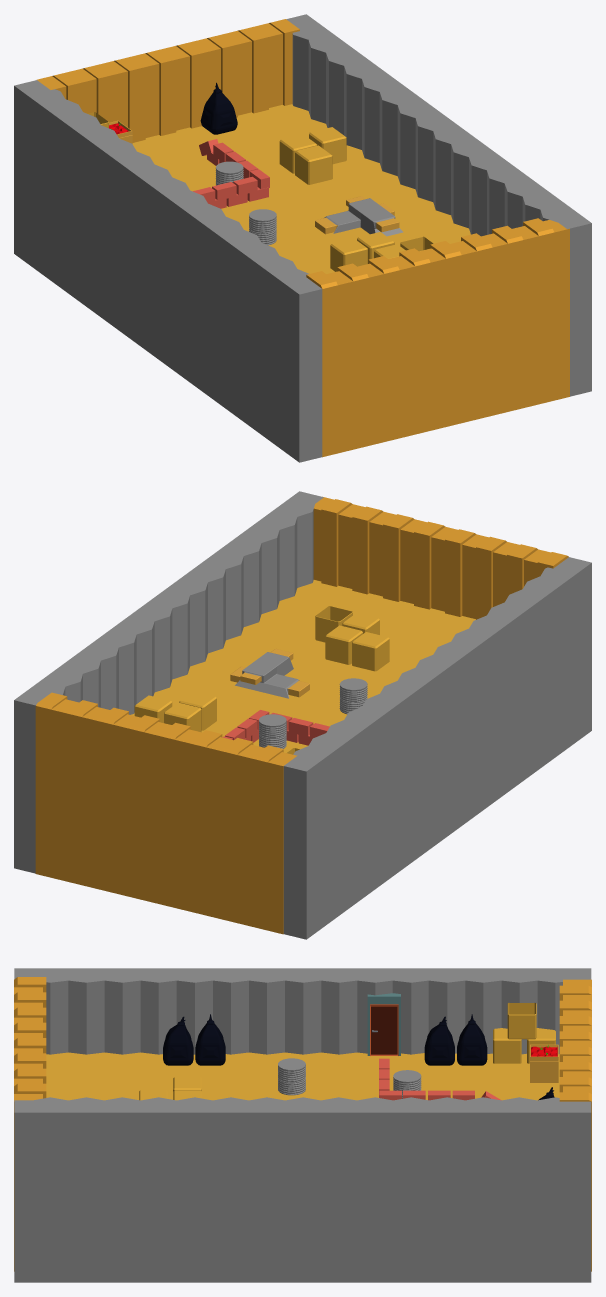
File: Lev2.fbx
The picture shows the model from 3 angles, top to bottom: view 1: azimuth 30°, elevation 25°; view 2: azimuth 150°, elevation 25°; view 3: azimuth 270°, elevation 25°; orthographic projection.
Parts seen in each view (by area): view 1: Cube.007, Cube.009, Cube.008, Cube.006, Cube.010, Cube.027, Box1.011, Cube.029, Box1.008, Box1.010, CylinderWRidges.001, Box1.009; view 2: Cube.007, Cube.010, Cube.008, Cube.006, Cube.009, Cube.027, Box1.008, Box1.006, CylinderWRidges.002, CylinderWRidges.001, Box2.002, Box1.009 (+2 smaller); view 3: Cube.008, Cube.007, Cube.006, Cube.009, Cube.010, Door.001, Cube.028, Cube.031, Cube.044, Cube.032, Cube.030, Box2.001 (+5 smaller).
Boxes of the visible parts, x1,y1,x2,y2 form: Cube.007: (14, 80, 322, 462); Cube.009: (306, 218, 569, 457); Cube.008: (286, 14, 591, 396); Cube.006: (132, 104, 470, 273); Cube.010: (37, 19, 299, 142); Cube.027: (315, 196, 403, 236); Box1.011: (295, 145, 332, 184); Cube.029: (200, 82, 237, 134); Box1.008: (330, 238, 367, 271); Box1.010: (309, 127, 346, 164); CylinderWRidges.001: (249, 209, 276, 245); Box1.009: (279, 134, 317, 173); Cube.007: (283, 557, 591, 939); Cube.010: (35, 692, 297, 934); Cube.008: (14, 491, 323, 873); Cube.006: (131, 580, 475, 752); Cube.009: (313, 496, 568, 619); Cube.027: (230, 649, 309, 698); Box1.008: (352, 632, 389, 671); Box1.006: (325, 625, 362, 664); CylinderWRidges.002: (259, 714, 286, 748); CylinderWRidges.001: (339, 678, 367, 714); Box2.002: (315, 606, 352, 642); Box1.009: (164, 702, 201, 732); Cube.008: (14, 1097, 591, 1282); Cube.007: (14, 968, 591, 1054); Cube.006: (46, 1052, 559, 1100); Cube.009: (14, 977, 46, 1271); Cube.010: (559, 979, 591, 1271); Door.001: (370, 1004, 398, 1055); Cube.028: (457, 1014, 487, 1065); Cube.031: (195, 1014, 225, 1065); Cube.044: (530, 1044, 558, 1082); Cube.032: (163, 1016, 193, 1065); Cube.030: (424, 1016, 454, 1065); Box2.001: (507, 1003, 536, 1039).
Bounding box in the file's own units: 2367 × 1320 × 4007.
